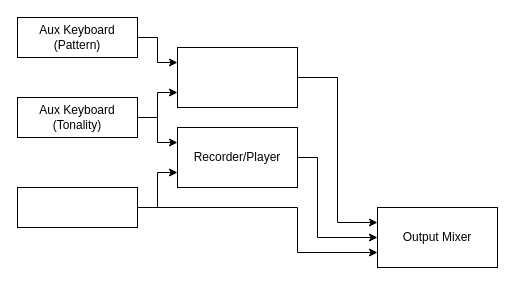
This 515x285 diagram has some shape labels left out. Each missing label, with the centre of its shape:
"Arp" goes at pixel 237 77.
"Main Keyboard" goes at pixel 77 207.
